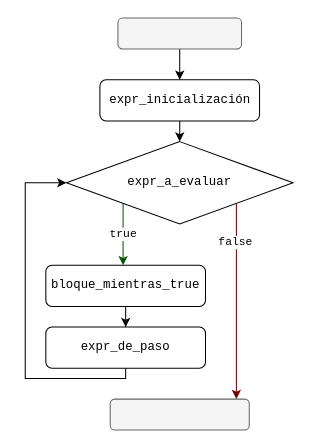
The diagram is 311 pixels wide and 448 high, and some of its shapes have lost their labels. The centre of each missing label's shape, as x and y in pixels:
Sentencias posteriores: the point at 179,414
Sentencias previas: the point at 179,33
